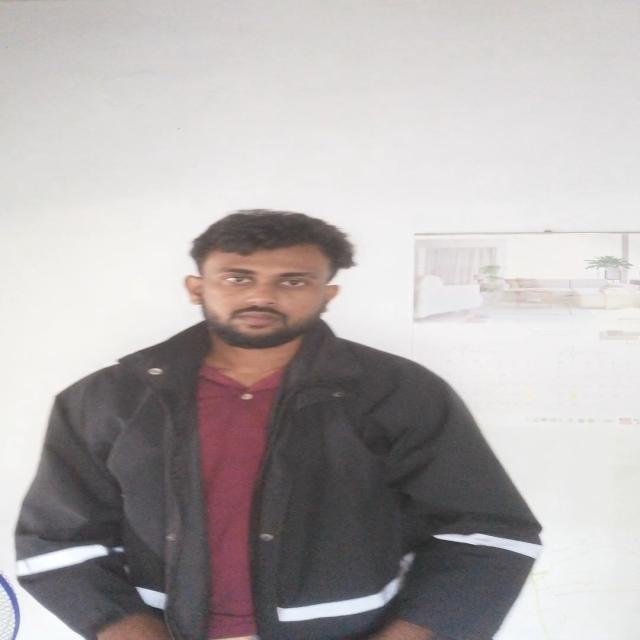Jacket_Wearer: (6, 299, 548, 640)
